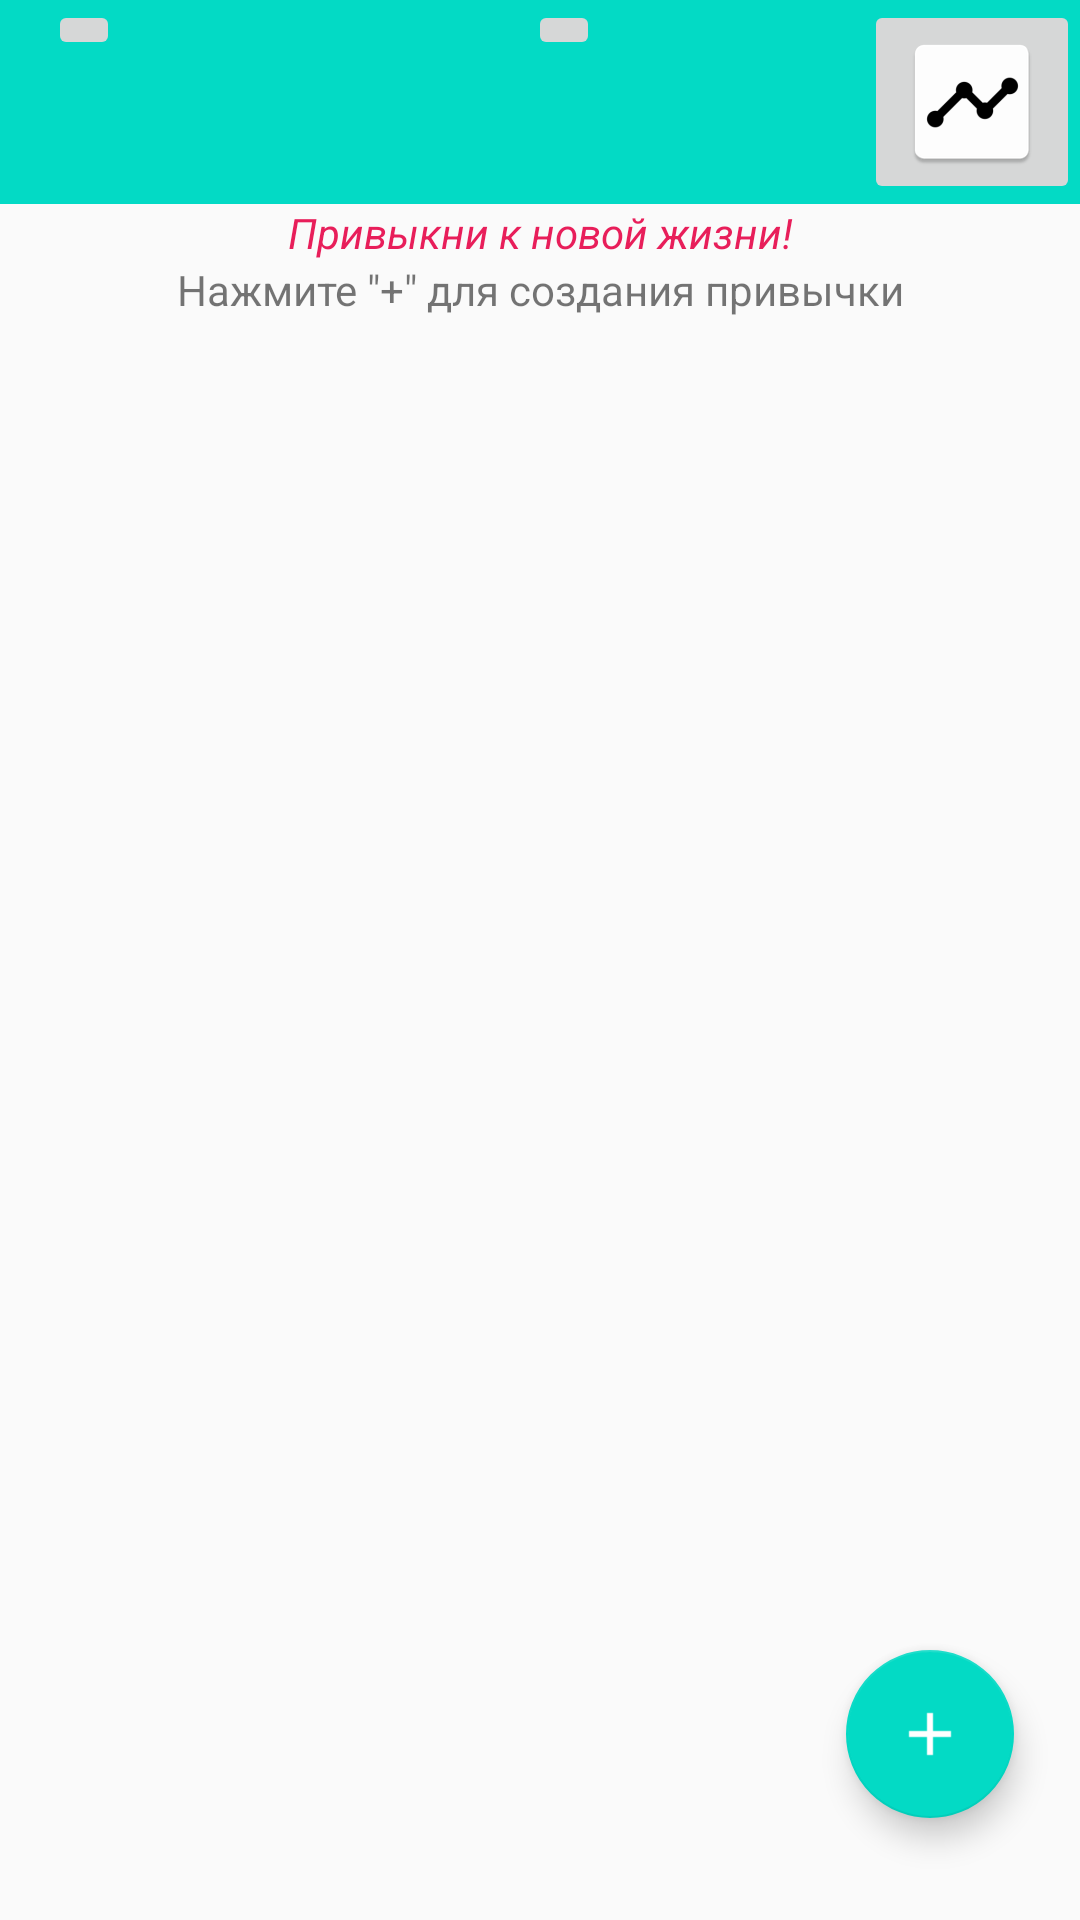

Icons on this 1080×1920 Android screen, each with its box as (x1, y1, x2, y2):
plus: (846, 1650, 1014, 1818)
staticonic: (876, 18, 1068, 186)
